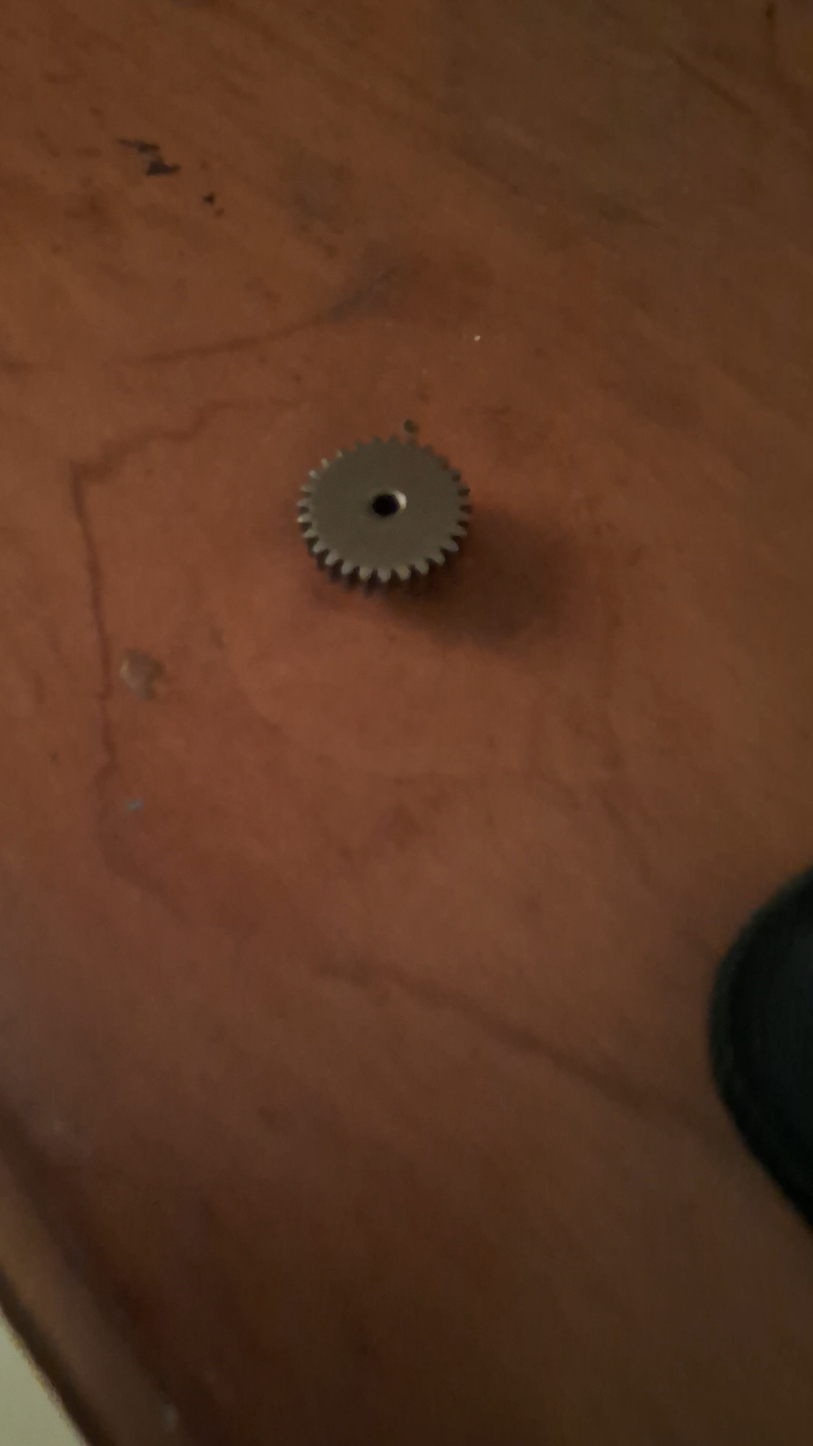spur gear: (299, 437, 470, 584)
